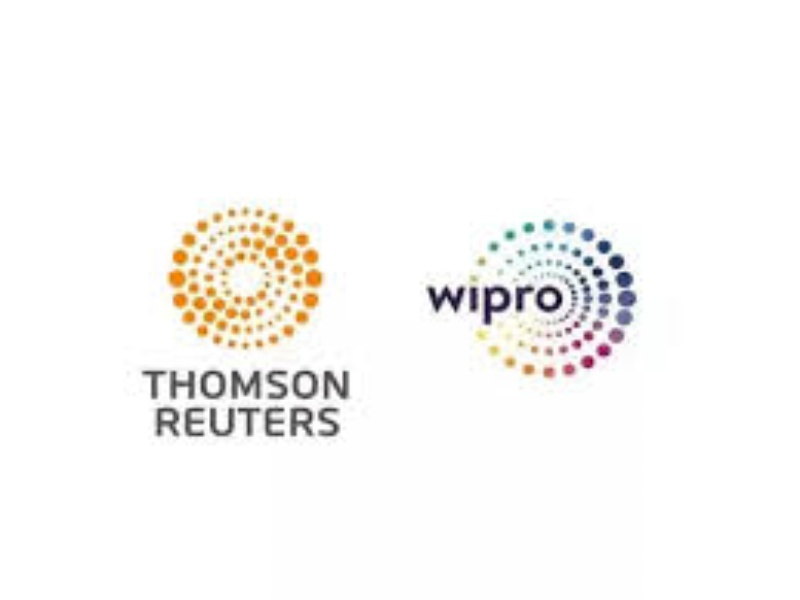wipro: (411, 217, 642, 382)
